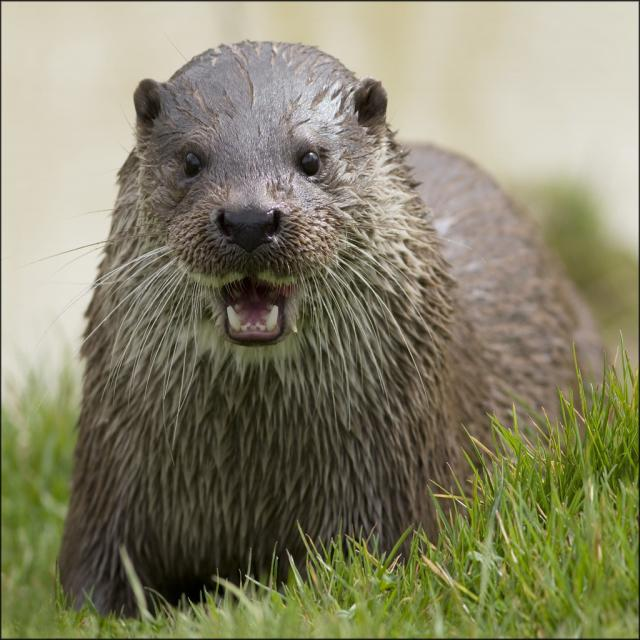otter: (84, 42, 448, 567)
